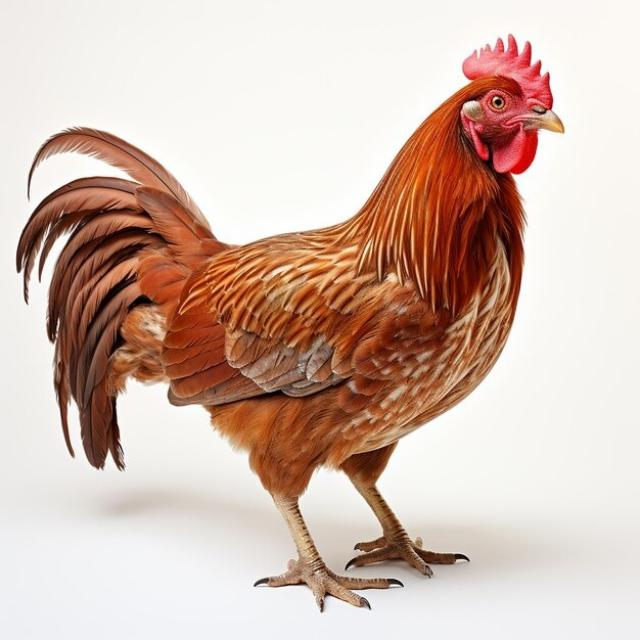Chicken: (15, 33, 563, 609)
